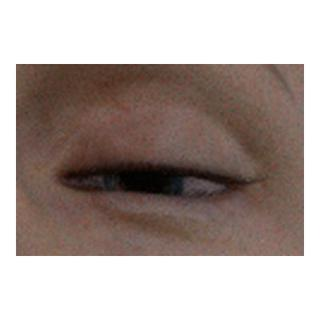pupil: (122, 157, 164, 200)
